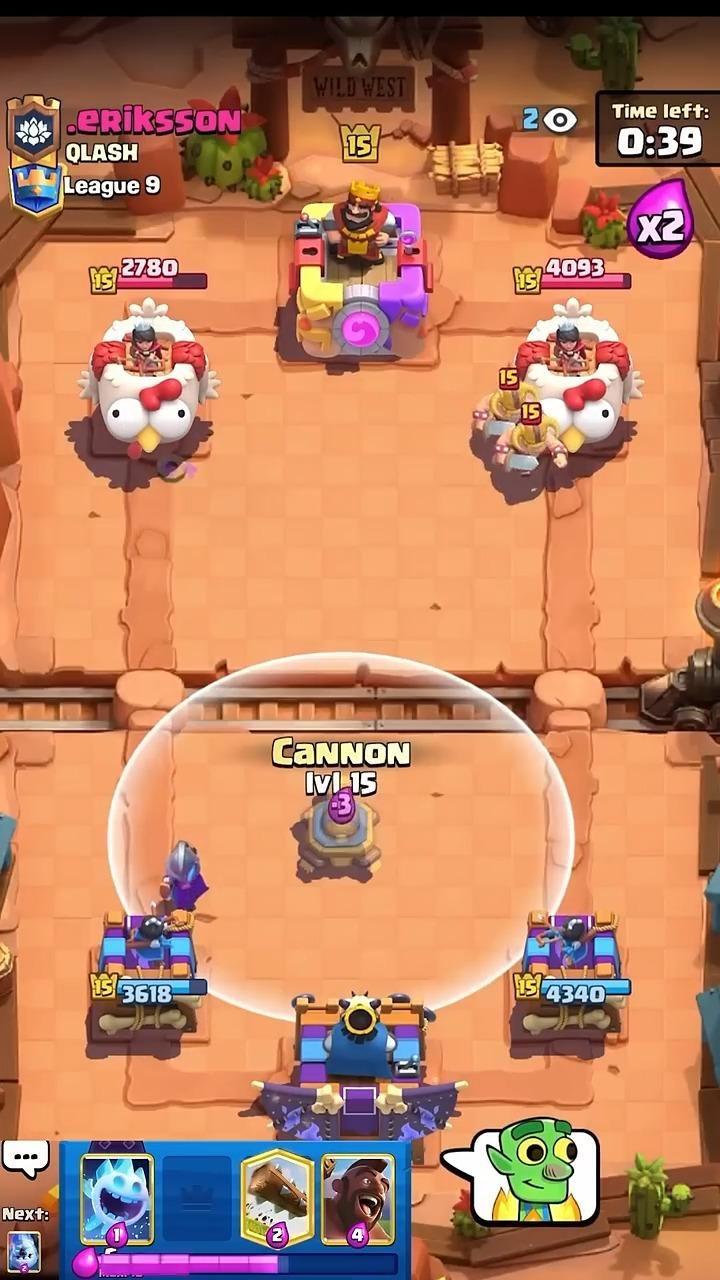elite barbarians: (494, 402, 567, 477), (476, 382, 537, 435)
musketeer: (160, 841, 207, 913)
